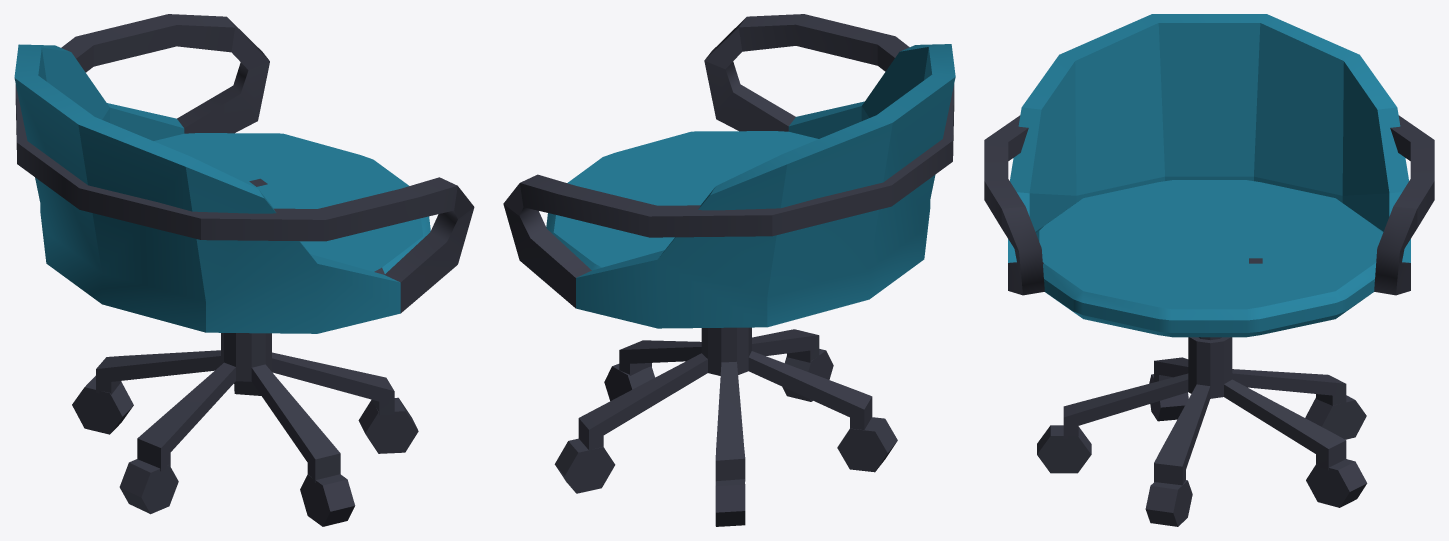
The model's file is fbx_club_task_chair.fbx.
The picture shows the model from 3 angles, left to right: view 1: azimuth 30°, elevation 25°; view 2: azimuth 150°, elevation 25°; view 3: azimuth 270°, elevation 25°; orthographic projection. The views are drawn at different scales.
Parts seen in each view (by area): view 1: fbx_club_task_chair; view 2: fbx_club_task_chair; view 3: fbx_club_task_chair.
Part boxes in pixels (bbox=[...]): fbx_club_task_chair: bbox=[14, 14, 474, 526]; fbx_club_task_chair: bbox=[503, 14, 955, 526]; fbx_club_task_chair: bbox=[984, 14, 1434, 526].
Bounding box in the file's own units: 1.14 × 1.25 × 1.39.
Materials: 1 (1 with a texture image).
